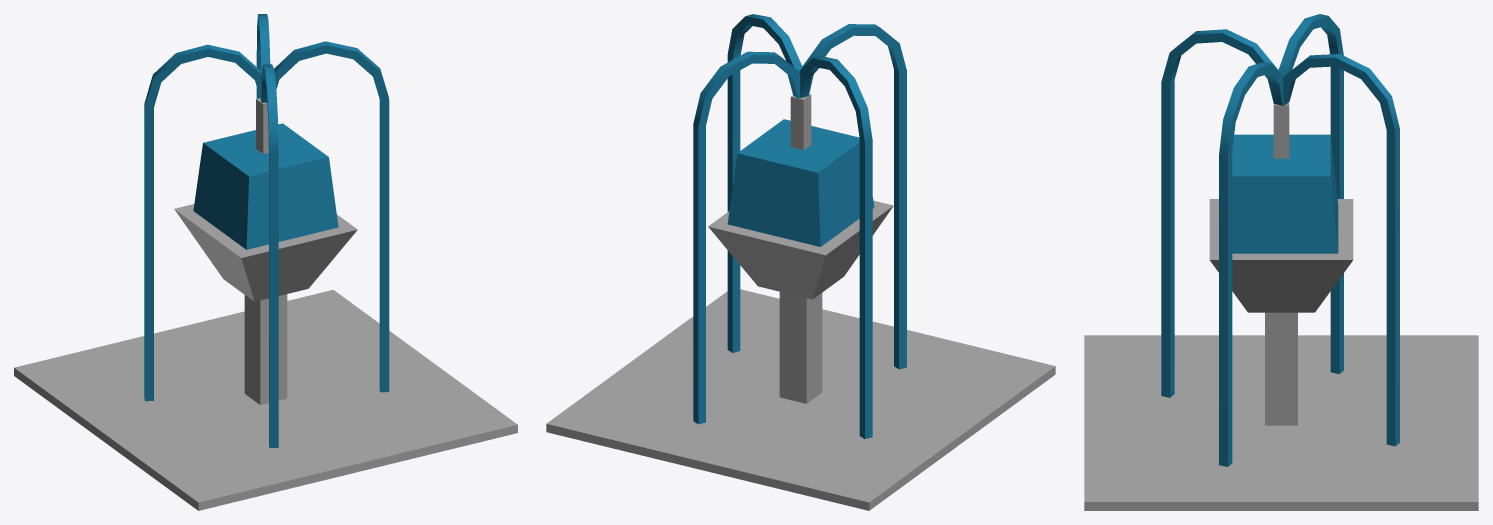
Rendered from water fountain.fbx.
3 views of the same model, side by side, from view 1: azimuth 30°, elevation 25°; view 2: azimuth 150°, elevation 25°; view 3: azimuth 270°, elevation 25° (orthographic). The views are drawn at different scales.
Parts seen in each view (by area): view 1: hp_water_fountain; view 2: hp_water_fountain; view 3: hp_water_fountain.
Boxes of the visible parts, box(x1,y1,x2,y2) form: hp_water_fountain: box(14, 14, 517, 510); hp_water_fountain: box(546, 14, 1055, 510); hp_water_fountain: box(1084, 14, 1478, 510).
Bounding box in the file's own units: 200 × 215 × 200.
